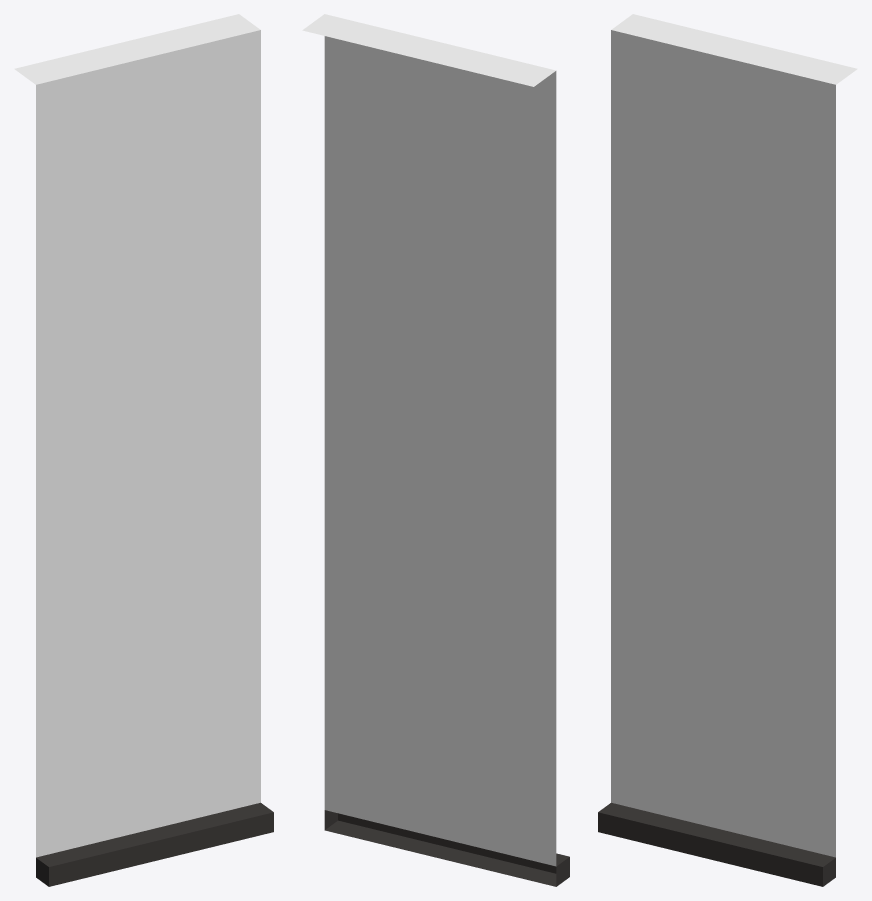
The model's file is 14_wall.FBX.
The picture shows the model from 3 angles, left to right: view 1: azimuth 30°, elevation 25°; view 2: azimuth 150°, elevation 25°; view 3: azimuth 330°, elevation 25°; orthographic projection. The views are drawn at different scales.
Visible parts, largest first — view 1: 14_wall; view 2: 14_wall; view 3: 14_wall.
Part boxes in pixels (left/top/right/bottom): 14_wall: left=14, top=14, right=273, bottom=886; 14_wall: left=302, top=14, right=569, bottom=886; 14_wall: left=598, top=14, right=857, bottom=886.
Bounding box in the file's own units: 128 × 432 × 34.48.
